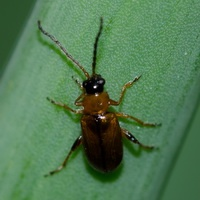insect: (38, 17, 160, 174)
